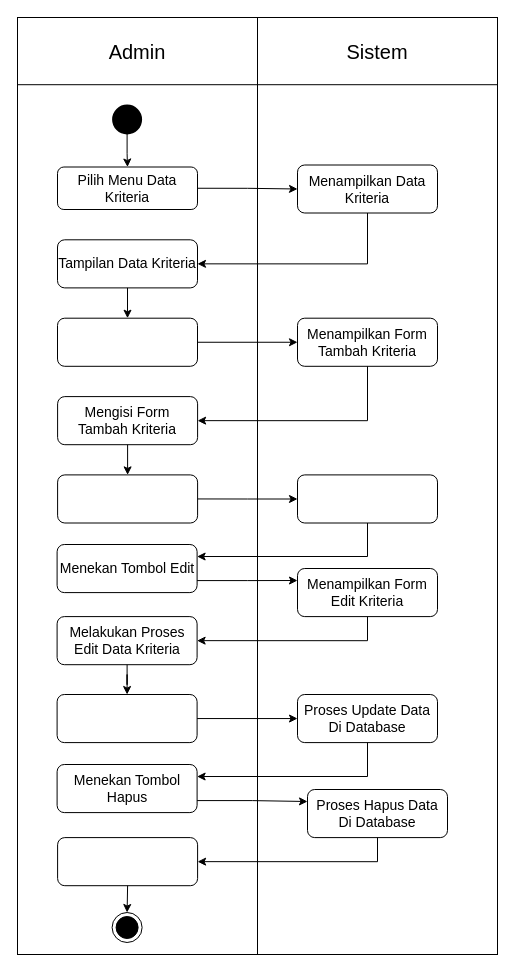
The diagram is 515 pixels wide and 973 high, and some of its shapes have lost their labels. Here are the shapes that lost their labels. From the top down, the centre of each, then its label:
[127,341]: Menekan Tombol Tambah Kriteria
[127,498]: Menekan Tombol Simpan
[367,498]: Proses Penyimpanan Data Ke Database
[126,718]: Menekan Tombol Update
[127,861]: Tampilan Data Karawan
